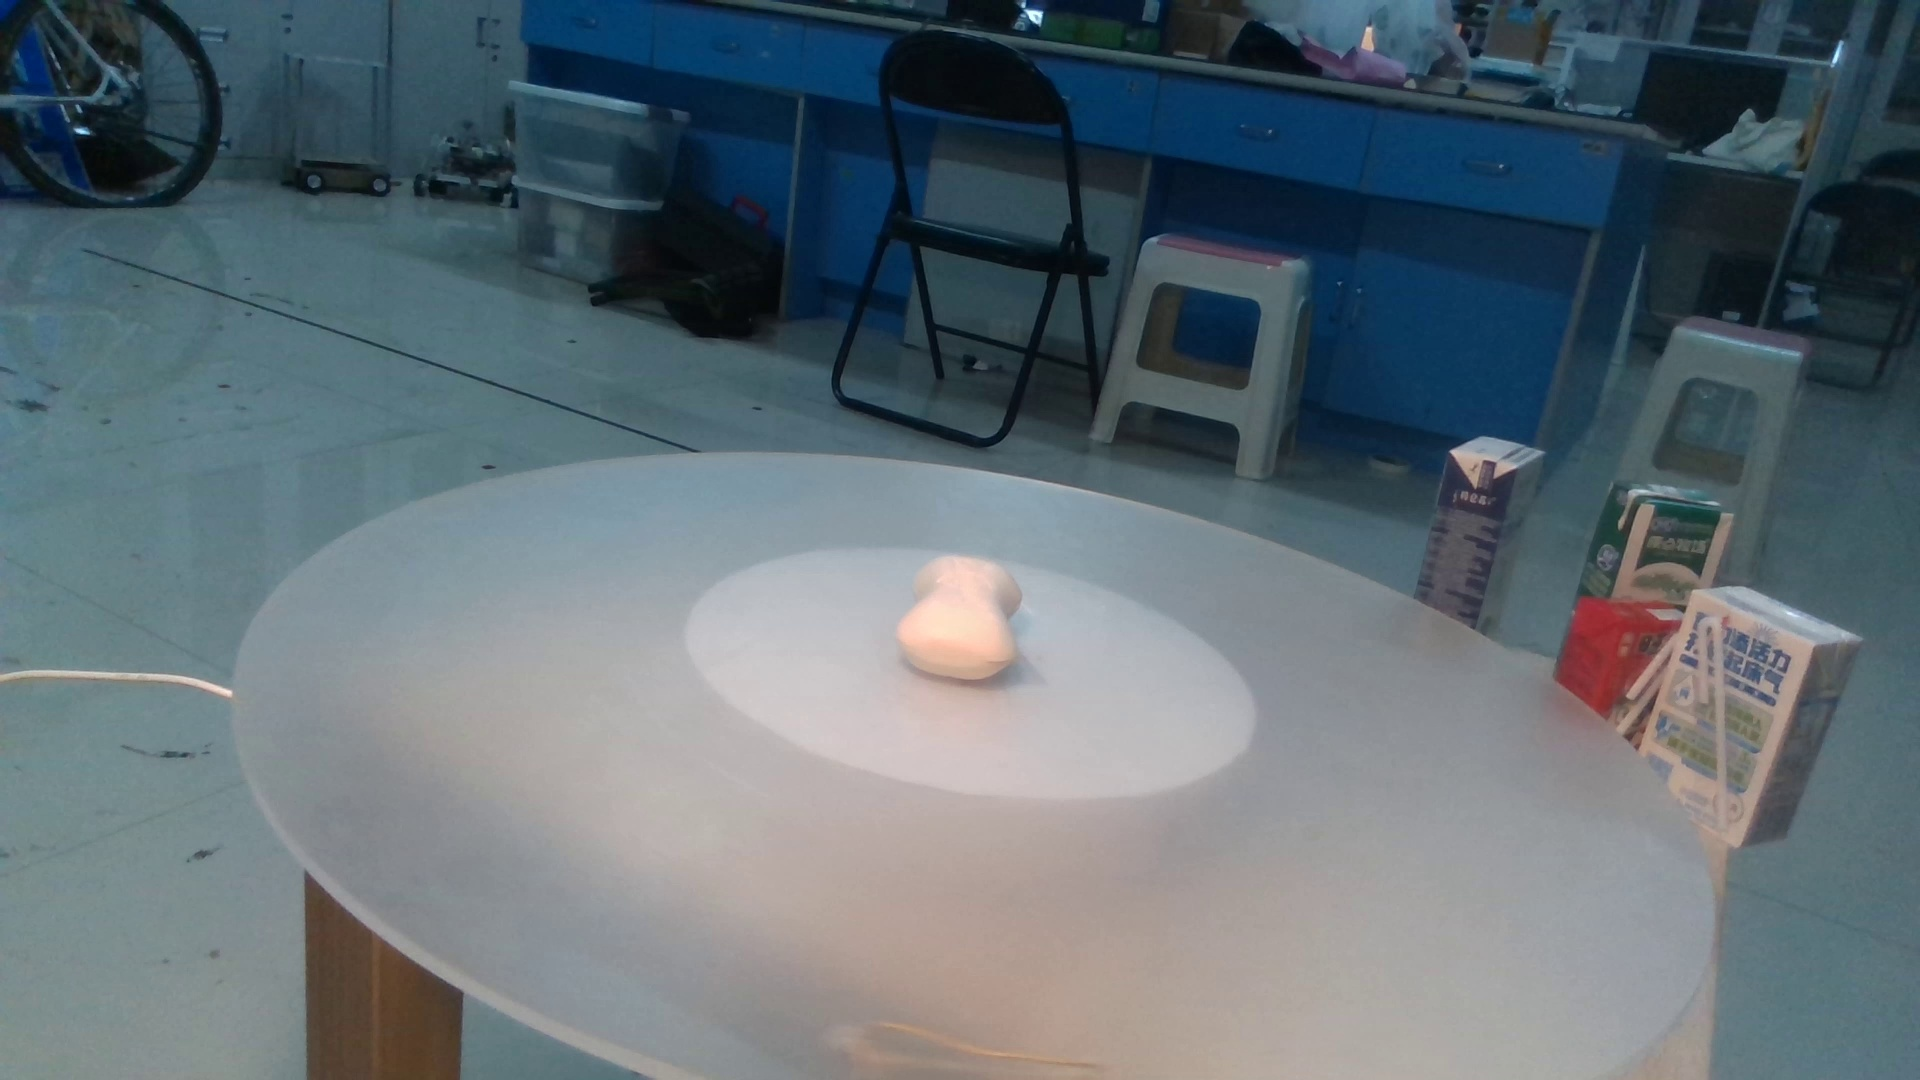CA003_1: (868, 539, 1065, 698)
